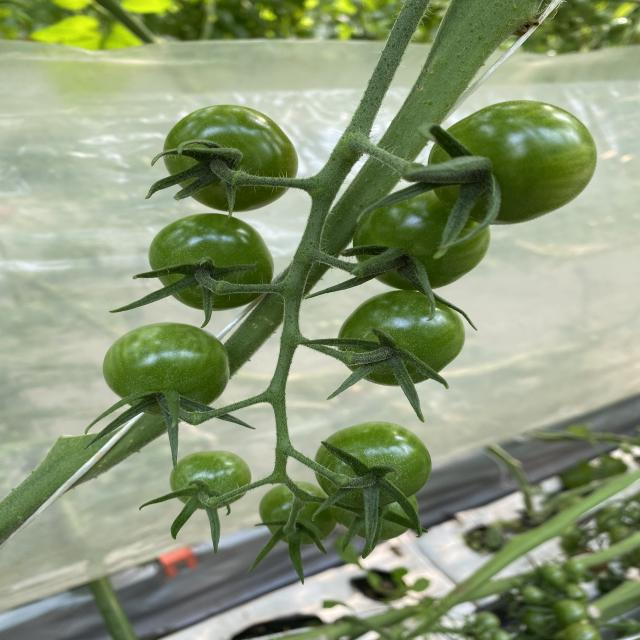c-unriped: (428, 100, 598, 224), (163, 104, 300, 213), (352, 189, 490, 291), (336, 290, 466, 387), (148, 214, 274, 311), (102, 322, 230, 416), (313, 420, 431, 510), (258, 481, 336, 546), (170, 451, 252, 509), (332, 494, 417, 540)
